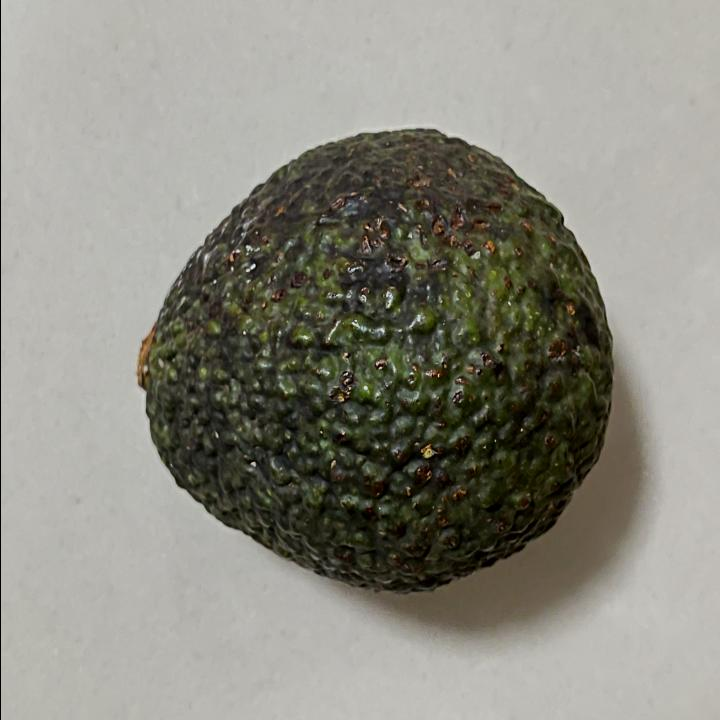Level1: (122, 111, 626, 613)
